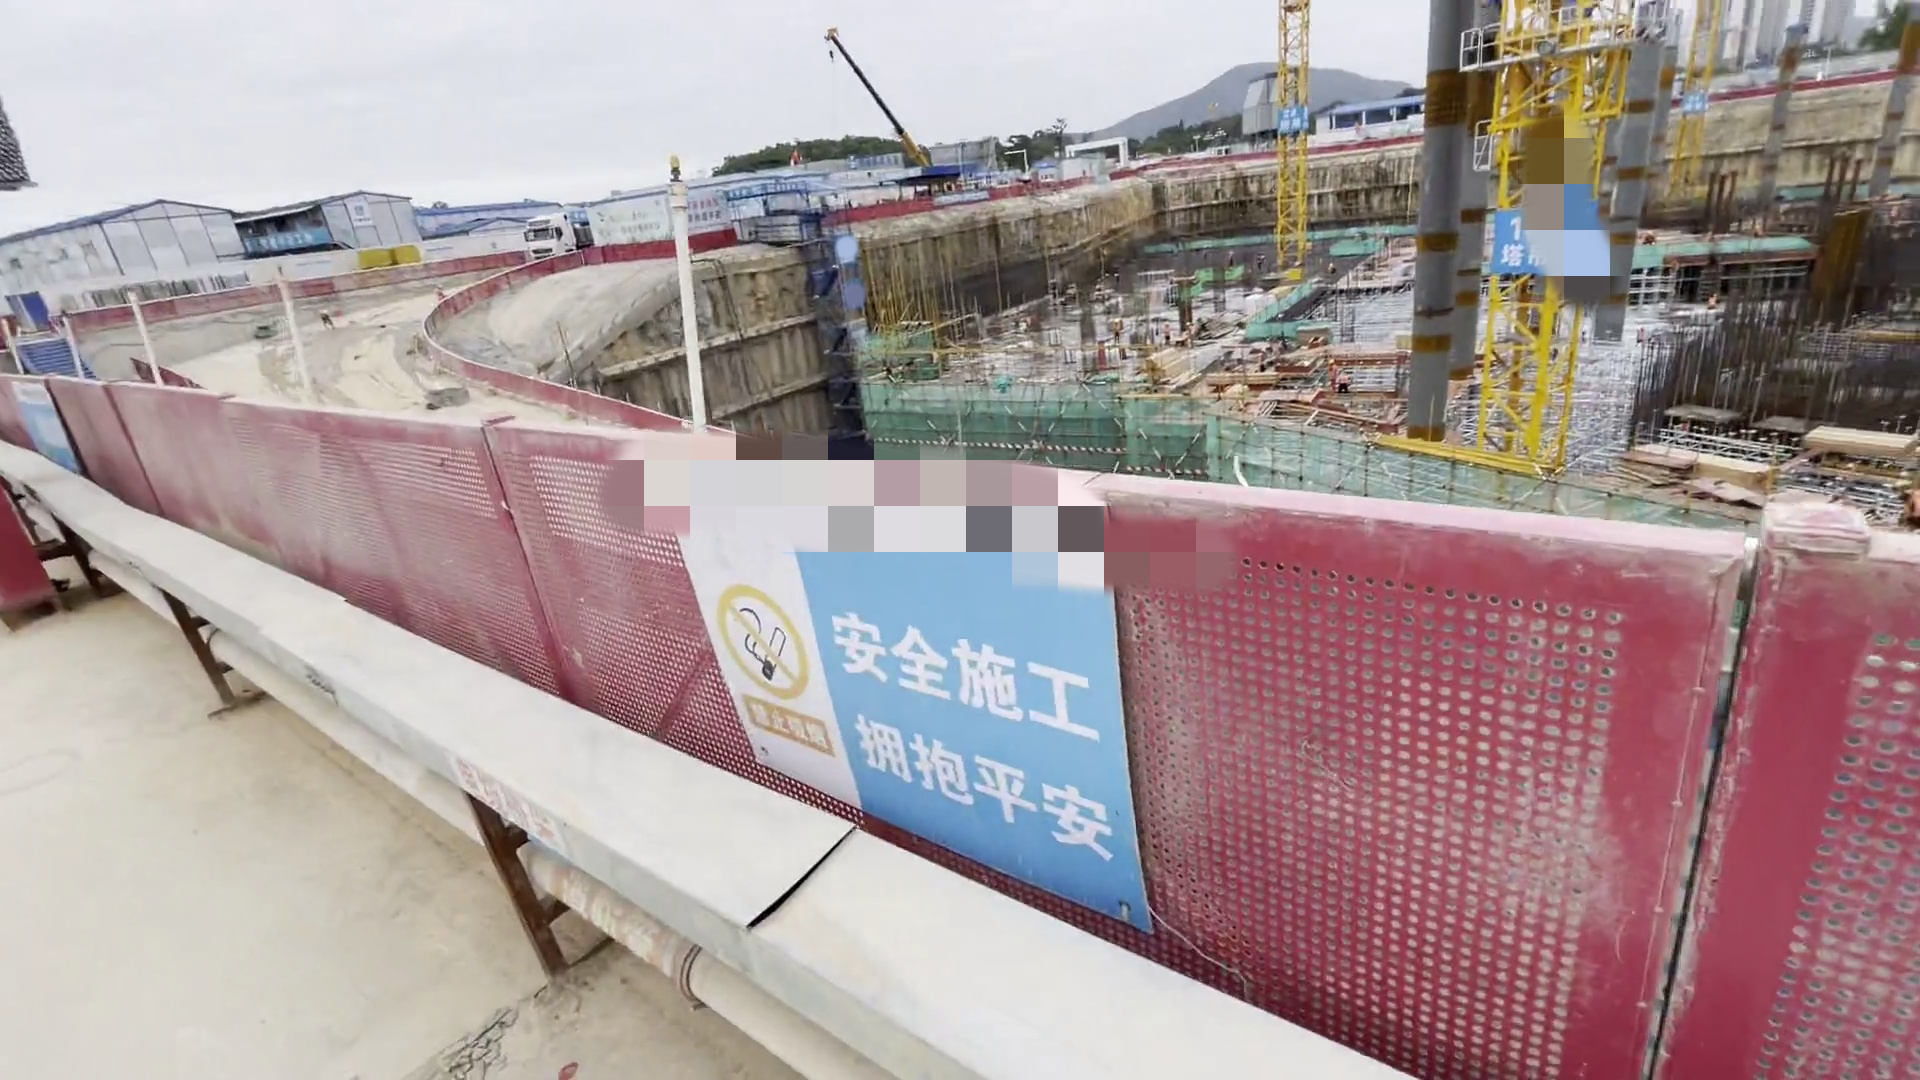fence: (98, 371, 1920, 1080)
slogan: (691, 492, 1178, 924), (222, 206, 367, 278), (616, 179, 737, 237)
